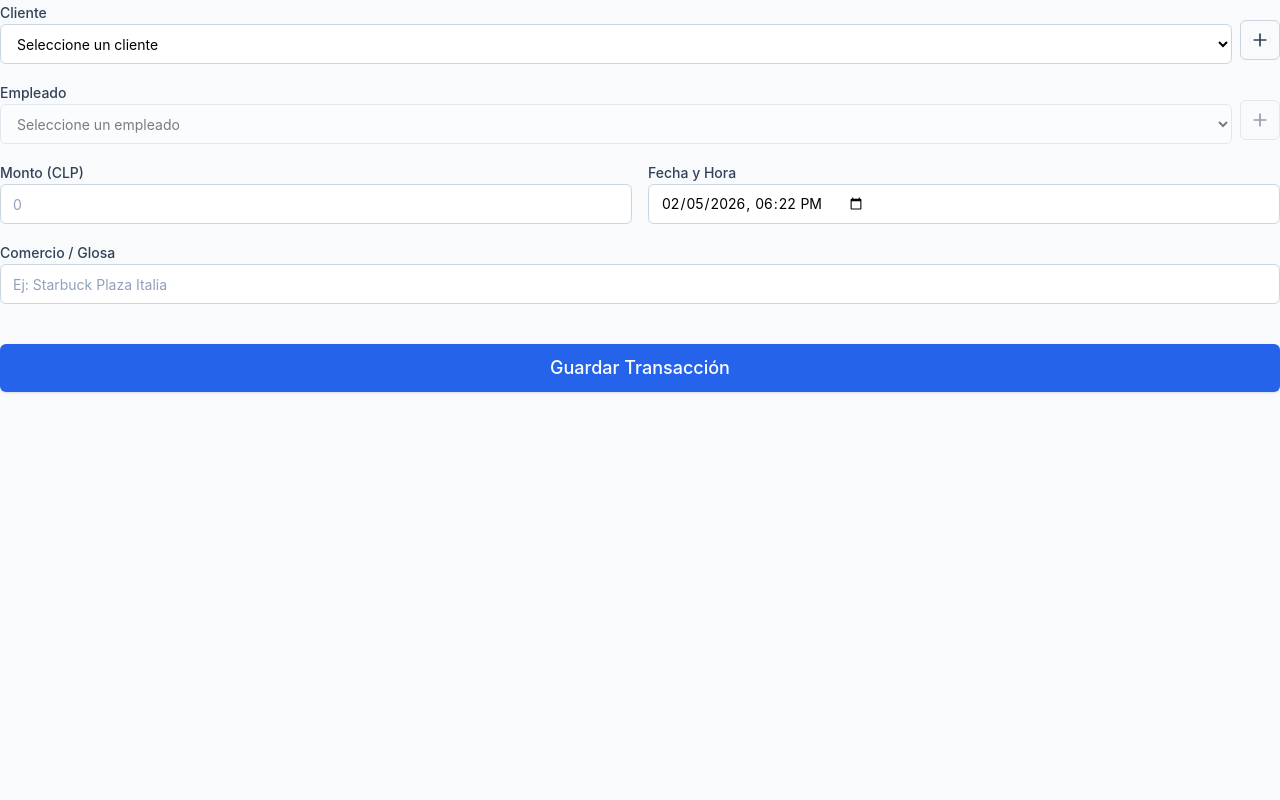
TransactionForm Component › opens client modal when plus button is clicked
The image size is (1280, 800).
Click the 1st button at [1260, 40], box [1240,20,1279,60]
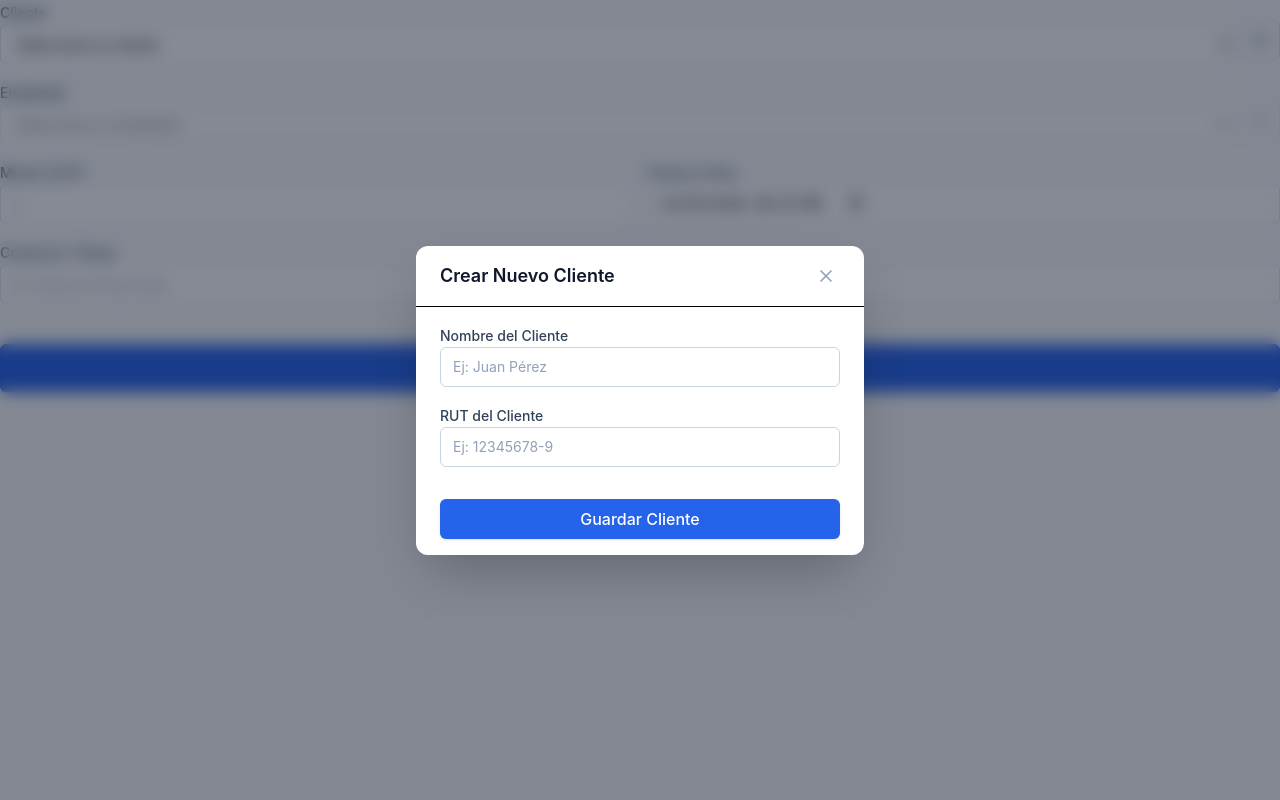
Check: the heading "Crear Nuevo Cliente" is shown, box [440,262,615,290]
